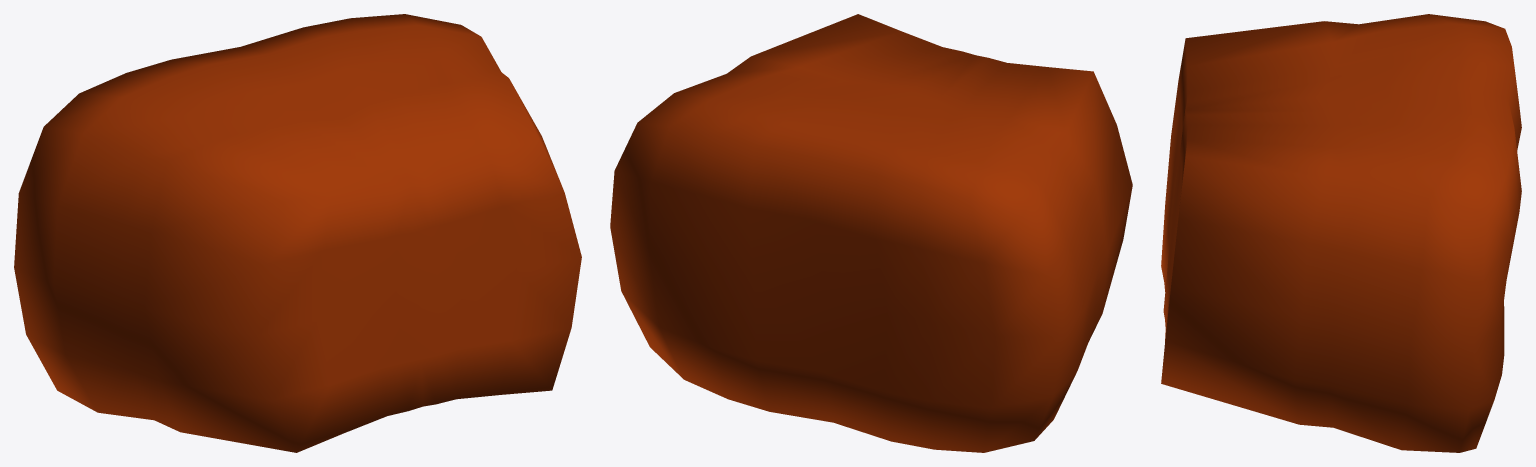
File: Body1.dae
The picture shows the model from 3 angles, left to right: view 1: azimuth 30°, elevation 25°; view 2: azimuth 150°, elevation 25°; view 3: azimuth 270°, elevation 25°; orthographic projection. The views are drawn at different scales.
Visible parts, largest first — view 1: Body1; view 2: Body1; view 3: Body1.
Part boxes in pixels (x1,y1,x2,y2): Body1: (14, 14, 581, 452); Body1: (610, 14, 1132, 452); Body1: (1161, 14, 1521, 452).
Bounding box in the file's own units: 0.2385 × 0.1611 × 0.1474.
